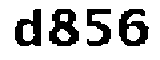5: (83, 5, 116, 54)
6: (118, 4, 150, 50)
8: (47, 6, 81, 51)
d: (8, 6, 45, 53)
